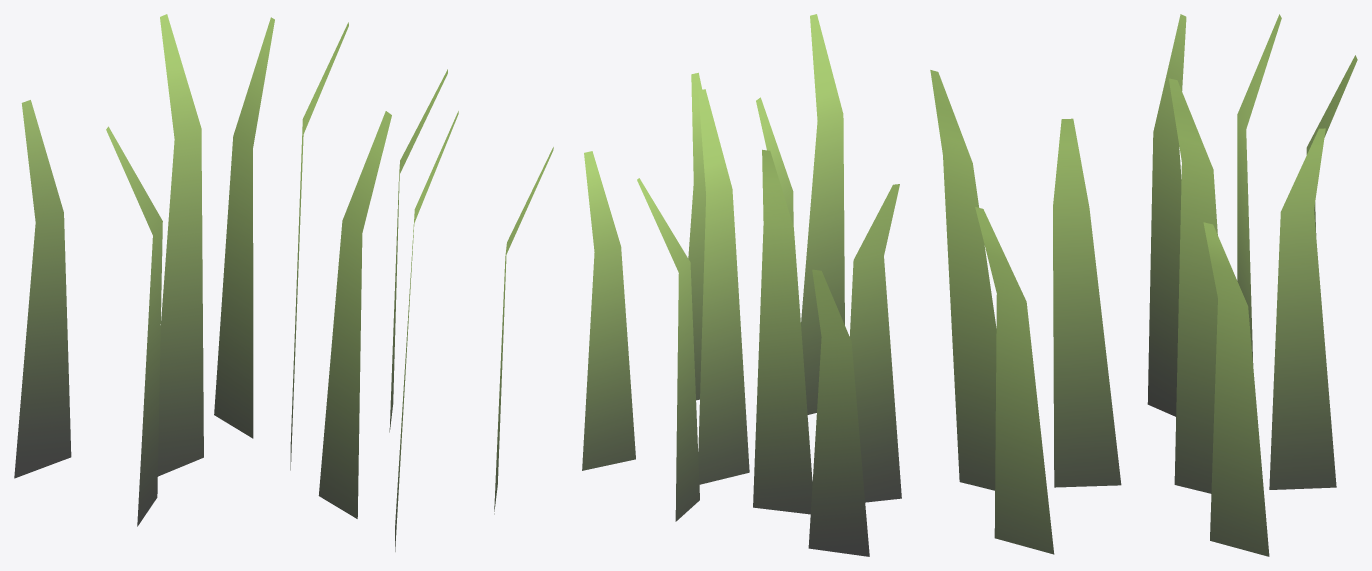
Rendered from grass.glb.
3 views of the same model, side by side, from view 1: azimuth 30°, elevation 25°; view 2: azimuth 150°, elevation 25°; view 3: azimuth 270°, elevation 25° (orthographic). The views are drawn at different scales.
Visible parts, largest first — view 1: Grass; view 2: Grass; view 3: Grass.
Boxes of the visible parts, left/top/right/bottom form: Grass: left=14, top=14, right=553, bottom=551; Grass: left=582, top=14, right=901, bottom=556; Grass: left=930, top=14, right=1357, bottom=556.
Size of the model in its own units: 0.409 by 0.4478 by 0.3974.
1 material, 1 textured.
